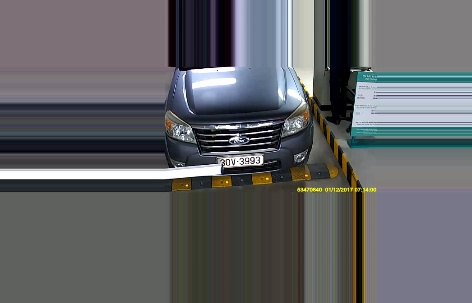plate: (216, 154, 264, 166)
